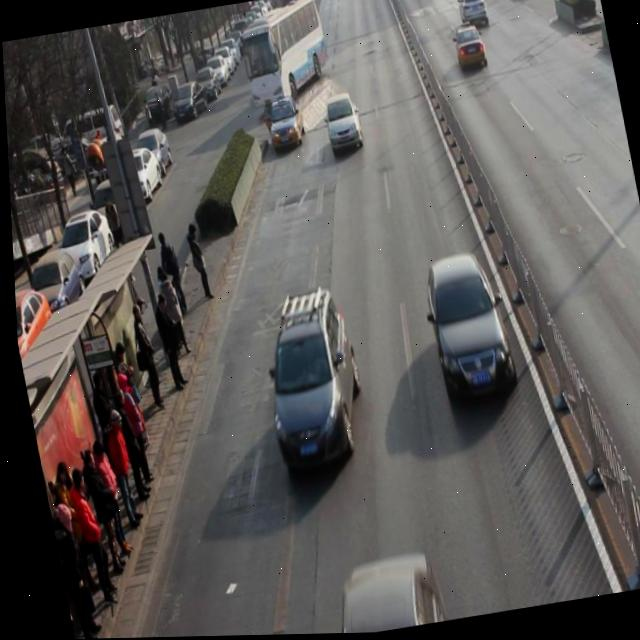car: (248, 289, 371, 477), (416, 250, 517, 409), (317, 545, 443, 635), (262, 94, 308, 157), (321, 93, 365, 156), (451, 25, 488, 75), (456, 0, 491, 33)
van: (233, 0, 333, 106)
